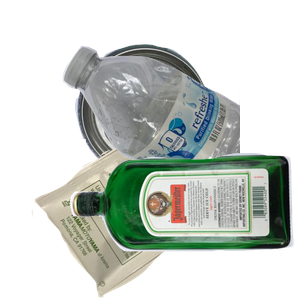glass: (67, 150, 300, 300)
metal: (73, 42, 277, 212)
plastic: (60, 44, 300, 224)
trash: (29, 124, 238, 300)
